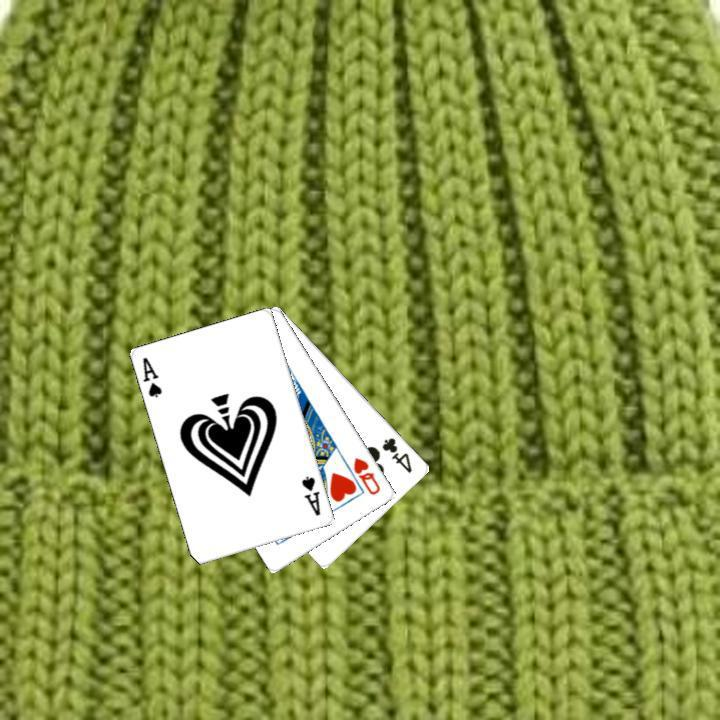4: (378, 433, 414, 475)
A: (138, 353, 164, 400), (298, 472, 323, 518)
Q: (349, 453, 383, 497)
